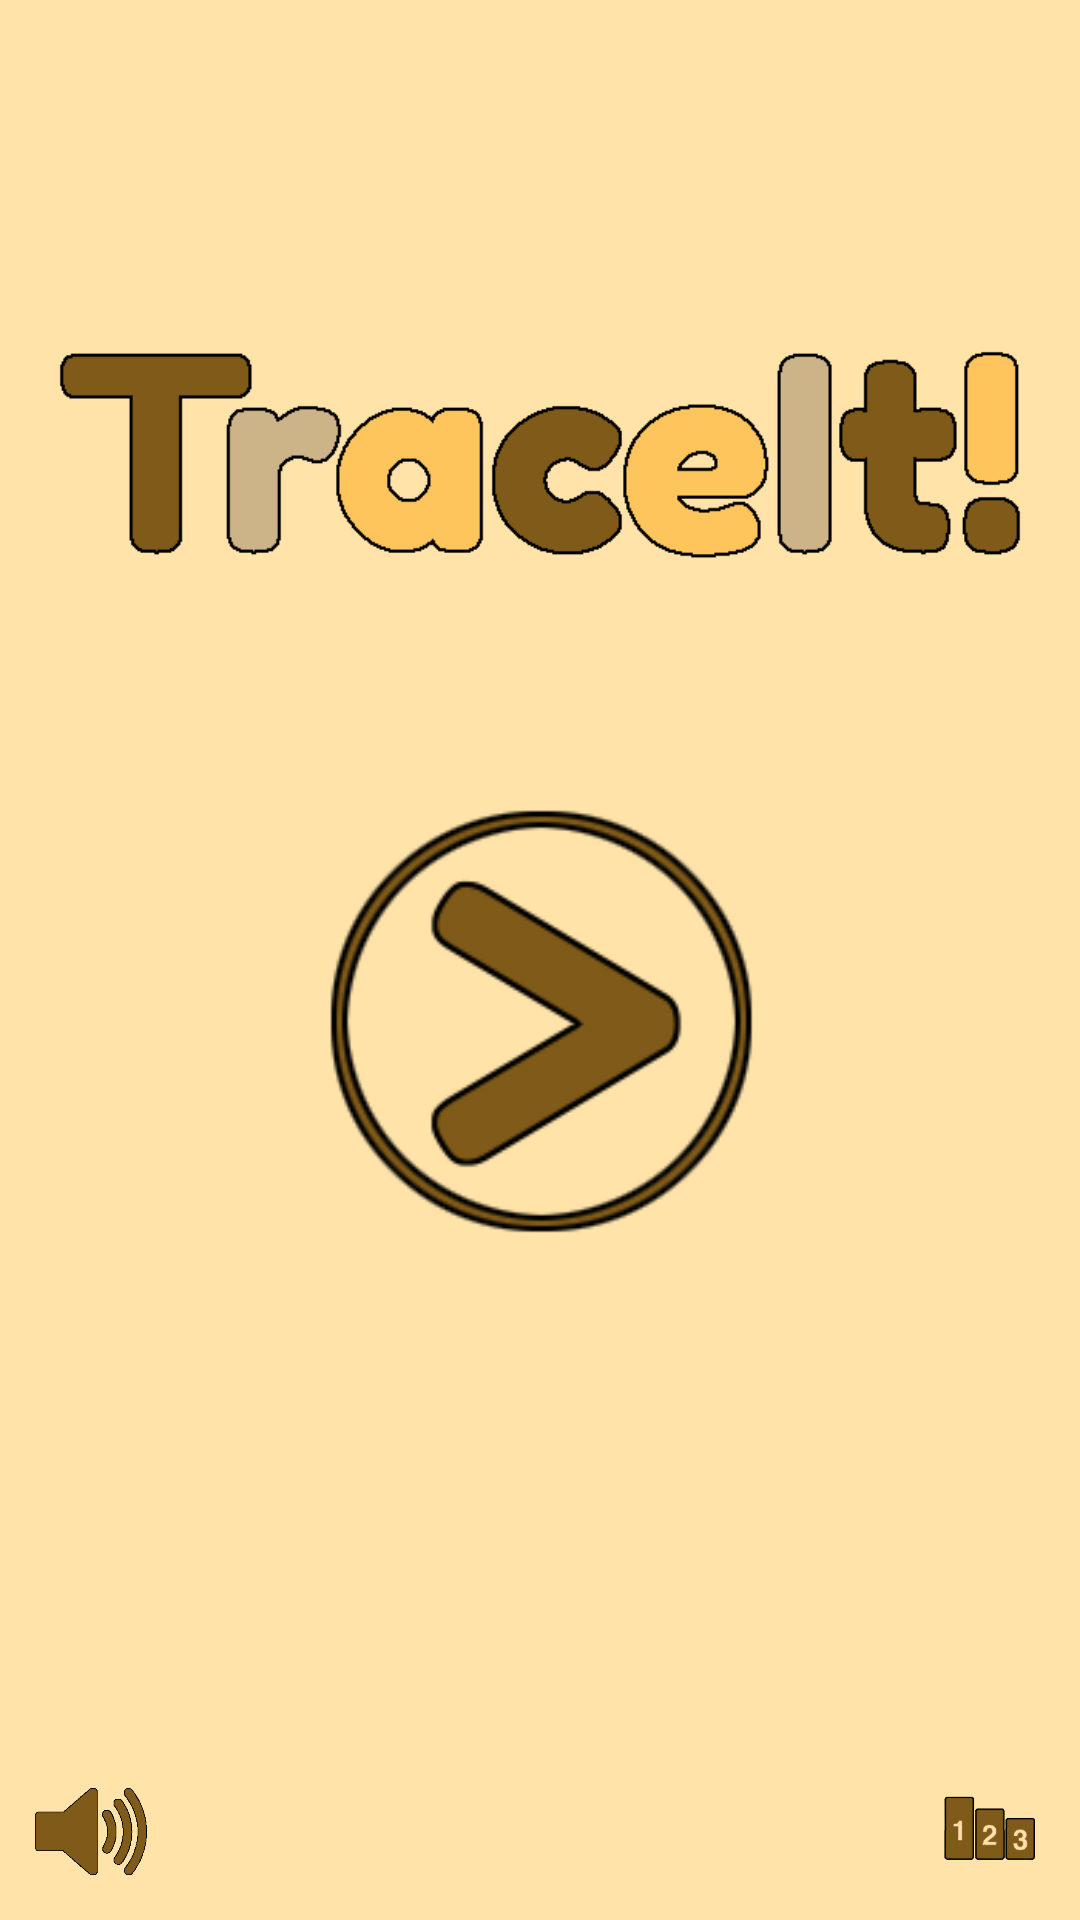

Point at icon controls on the screen. Image size 1080x1920, points as [x,y].
leaderboard: [989,1828]
sound on: [91,1831]
